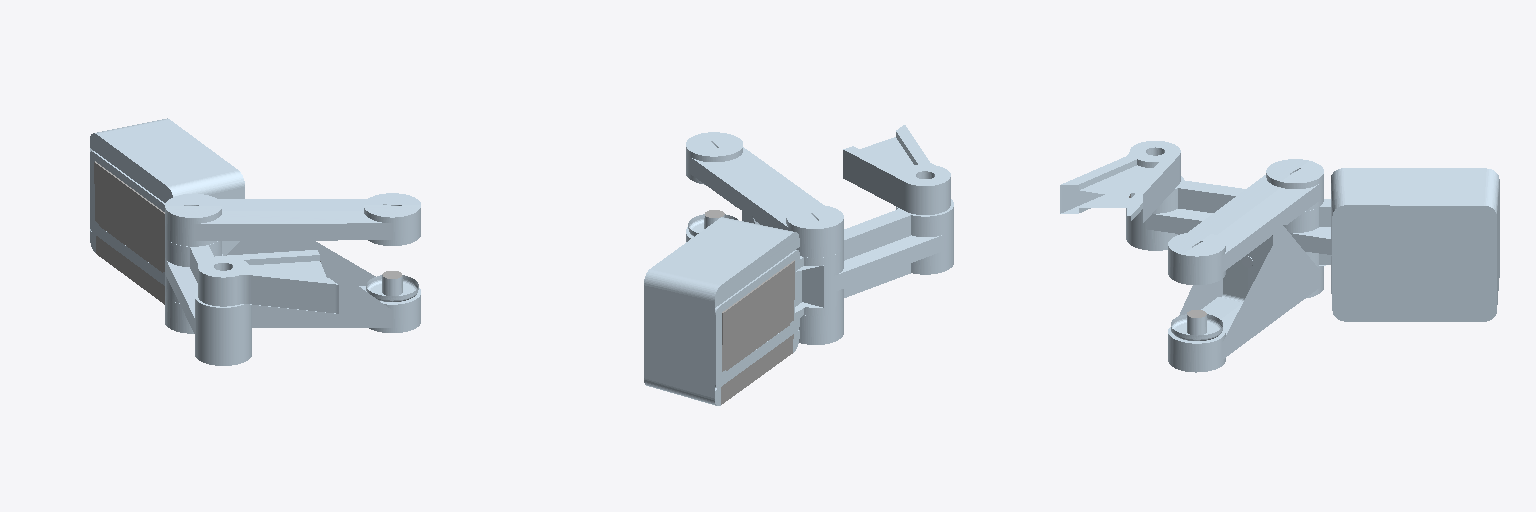
The model's file is gripper_left_arm_big.obj.
The picture shows the model from 3 angles: view 1: azimuth 30°, elevation 25°; view 2: azimuth 150°, elevation 25°; view 3: azimuth 270°, elevation 25°; orthographic projection.
Parts seen in each view (by area): view 1: Mesh1 Gripper_left_arm1 Model; view 2: Mesh1 Gripper_left_arm1 Model; view 3: Mesh1 Gripper_left_arm1 Model.
Part boxes in pixels (left/top/right/bottom): Mesh1 Gripper_left_arm1 Model: left=90, top=118, right=420, bottom=365; Mesh1 Gripper_left_arm1 Model: left=644, top=125, right=953, bottom=405; Mesh1 Gripper_left_arm1 Model: left=1060, top=141, right=1499, bottom=372.
Bounding box in the file's own units: 43.19 × 20.67 × 68.5.